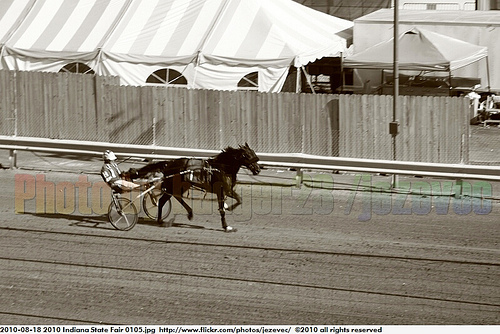horse: (149, 143, 261, 235)
